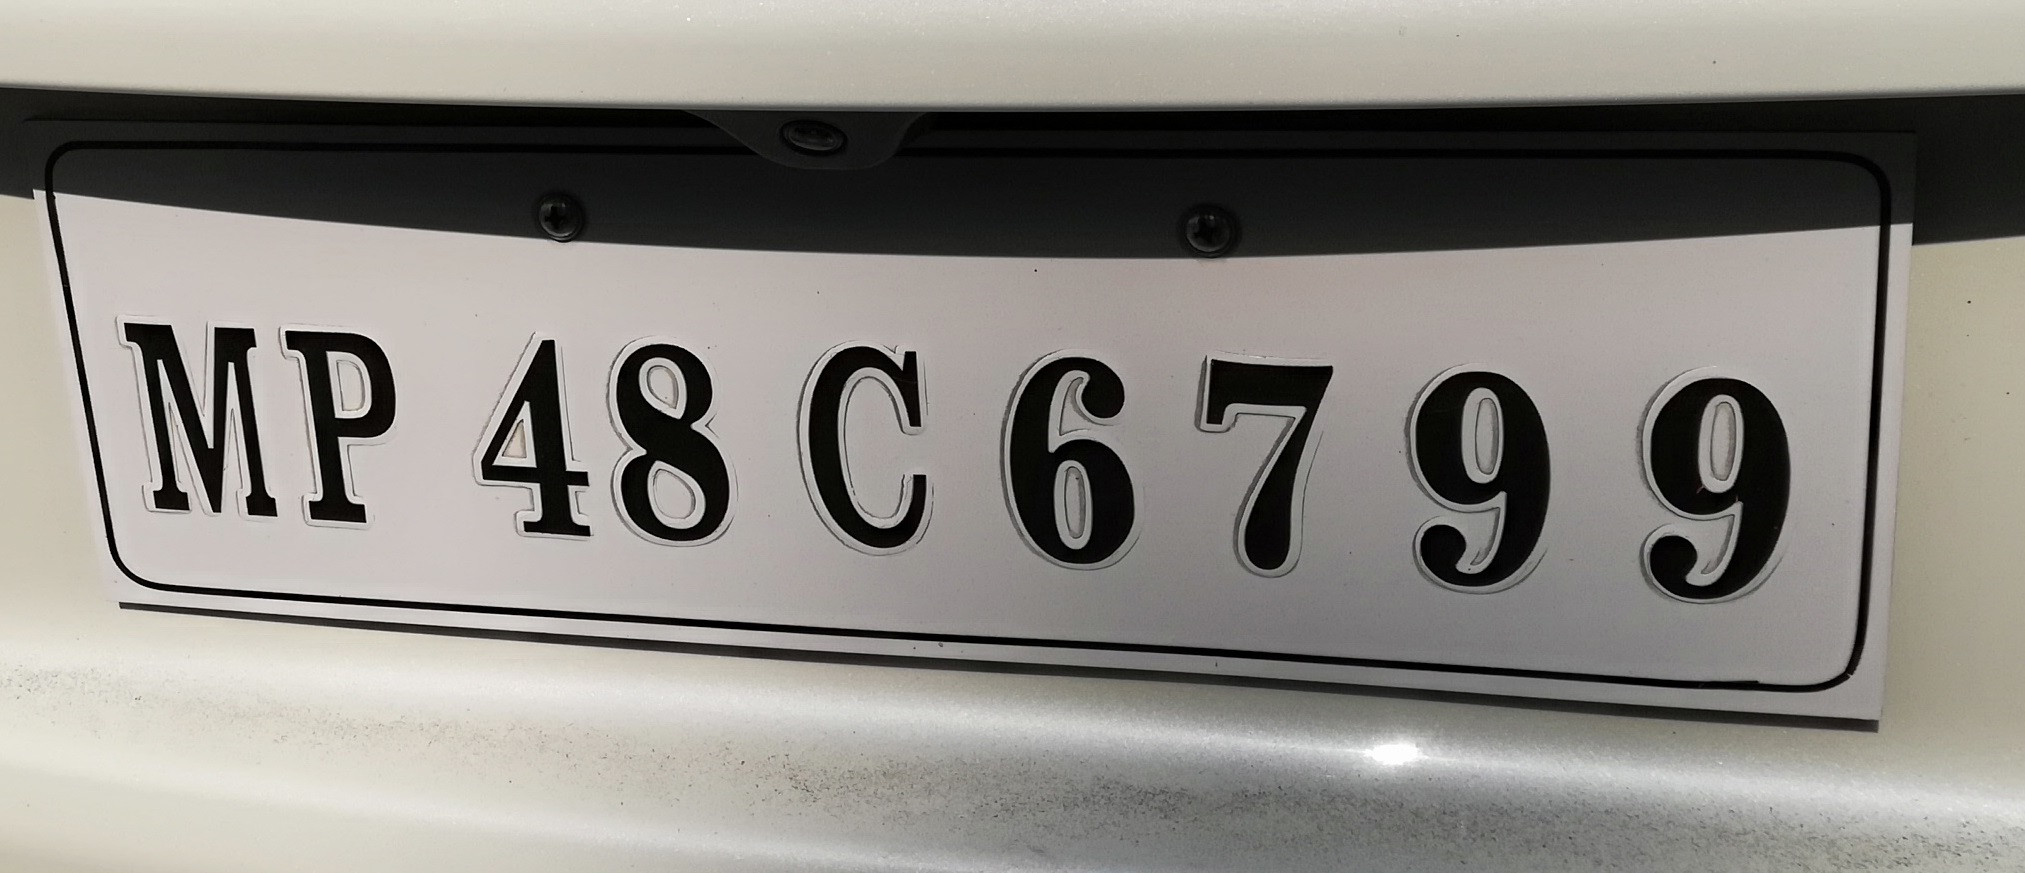numberplate: (20, 104, 1912, 736)
